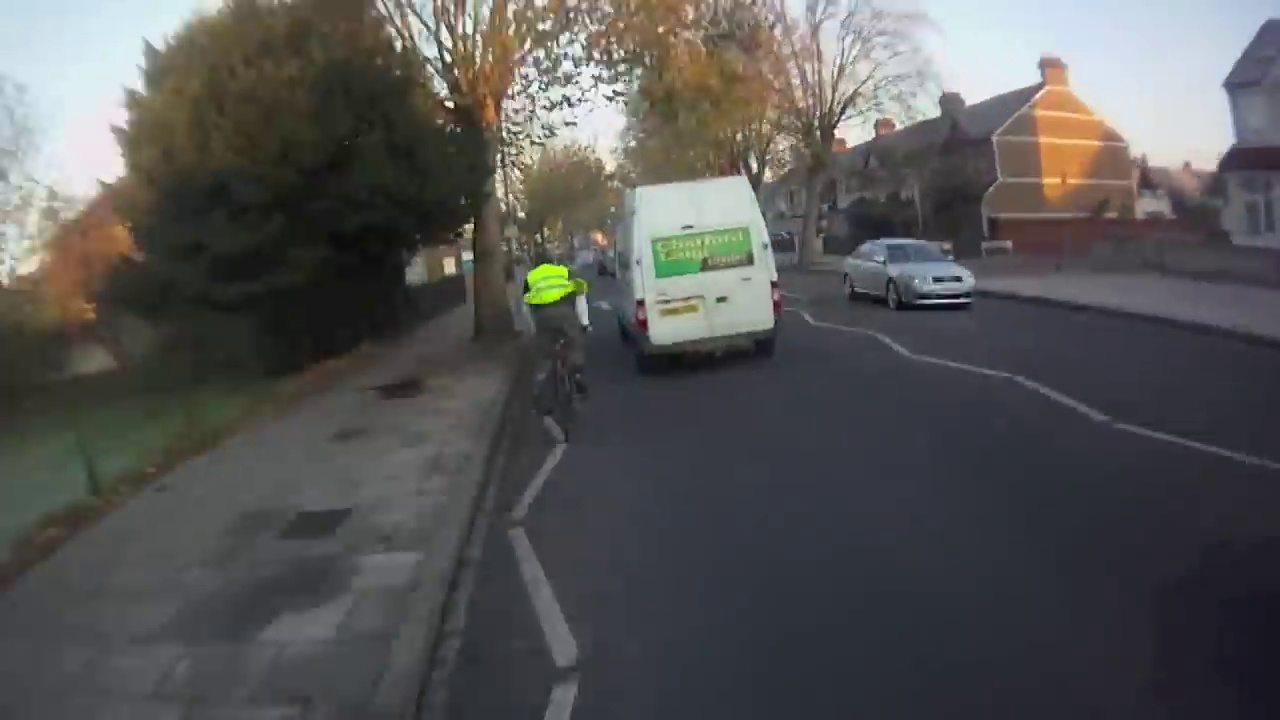cyclist_back: (523, 242, 595, 430)
